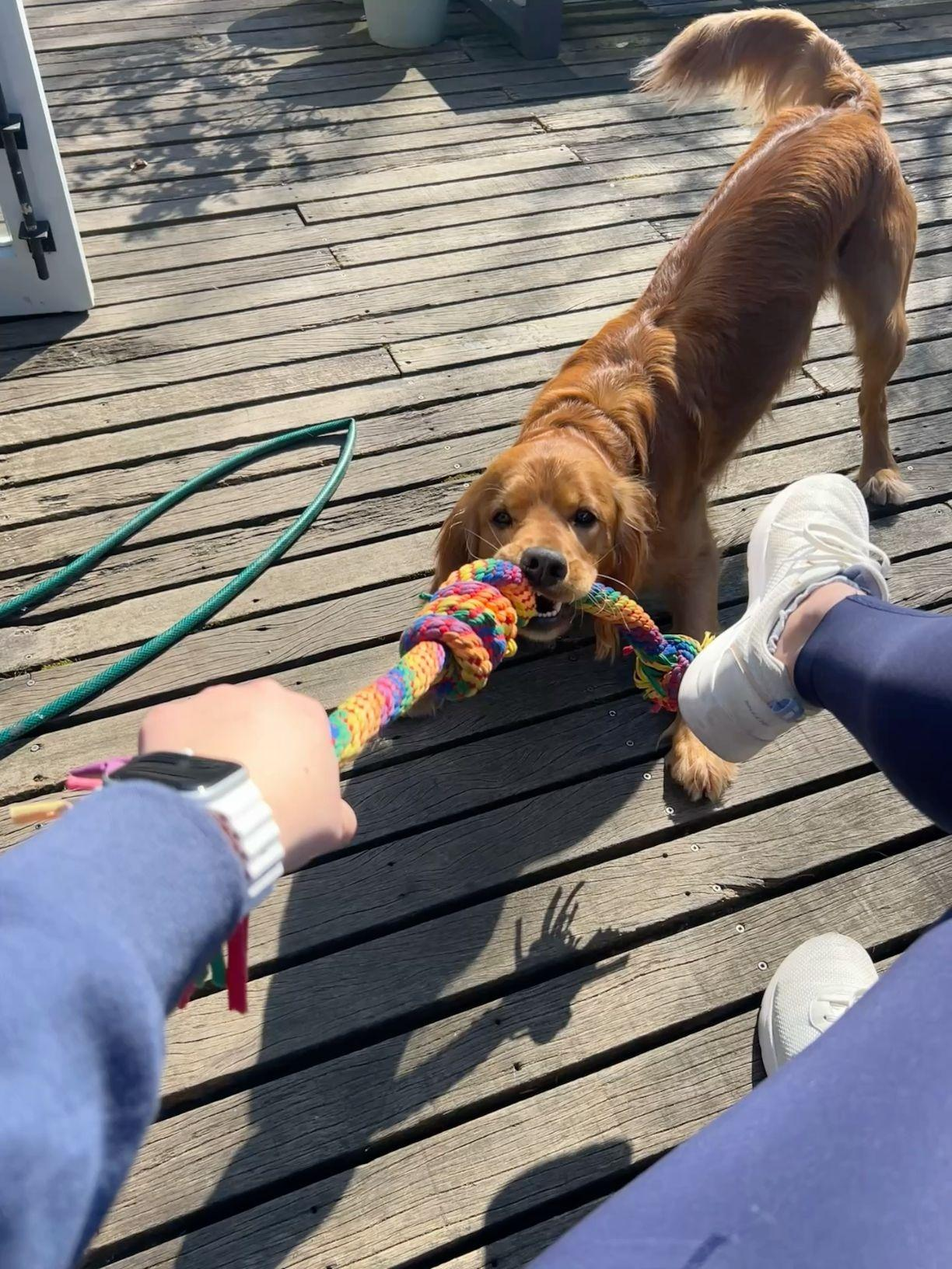adult_dog: (430, 7, 919, 802)
